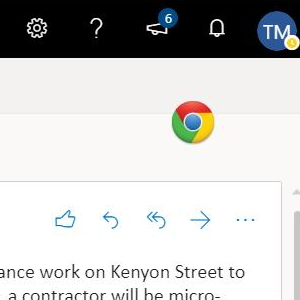chrome: (171, 100, 215, 144)
